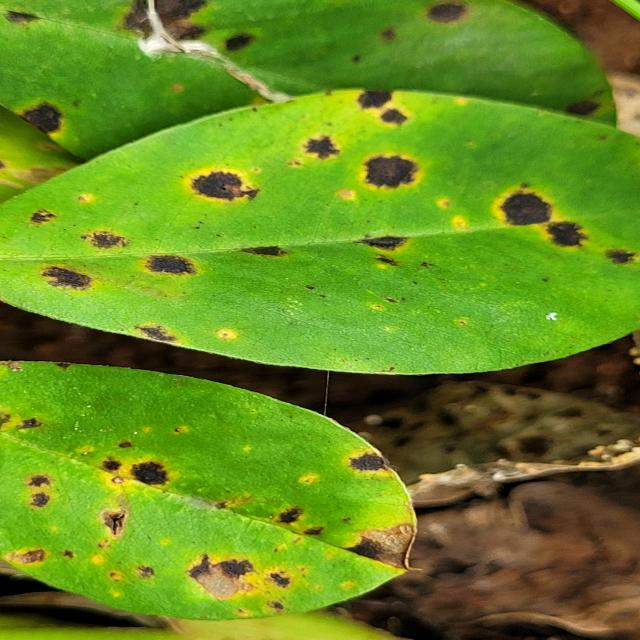Ground nut_tikka leaf spot: (3, 85, 640, 376), (3, 351, 427, 621)
